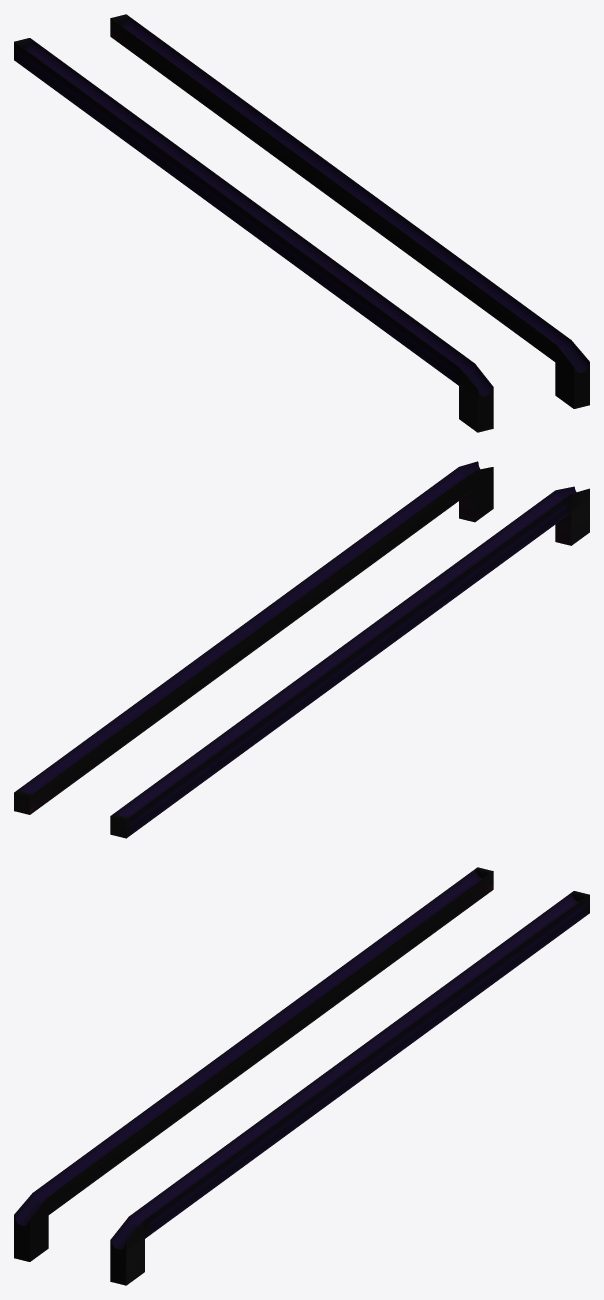
Rendered from Gutters.gltf.
3 views of the same model, one above another, from view 1: azimuth 30°, elevation 25°; view 2: azimuth 150°, elevation 25°; view 3: azimuth 330°, elevation 25° (orthographic).
Visible parts, largest first — view 1: Gutters; view 2: Gutters; view 3: Gutters.
Part boxes in pixels (left/top/right/bottom): Gutters: left=14, top=14, right=589, bottom=432; Gutters: left=14, top=461, right=589, bottom=838; Gutters: left=14, top=867, right=589, bottom=1285.
Size of the model in its own units: 3.5 by 1.54 by 25.
1 material, 1 textured.
